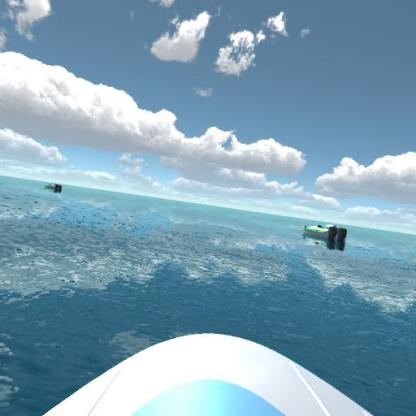usv0: (299, 218, 351, 252), (43, 179, 67, 194)
